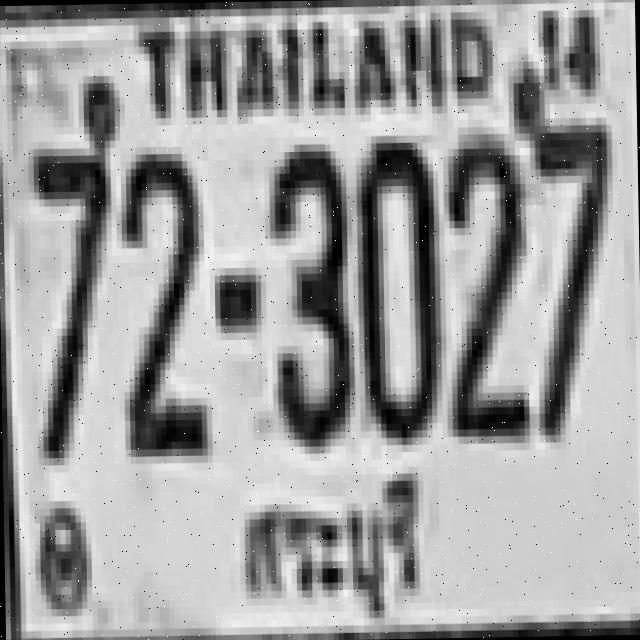0: (353, 134, 440, 438)
2: (118, 150, 205, 438), (442, 130, 524, 412), (440, 172, 527, 432), (117, 146, 199, 414), (442, 133, 524, 386)
3: (263, 140, 350, 442)
7: (30, 144, 112, 447), (30, 144, 111, 412), (529, 117, 610, 363), (27, 144, 113, 354), (529, 117, 610, 327), (529, 117, 609, 305)
SaraBuri: (217, 469, 449, 629)
